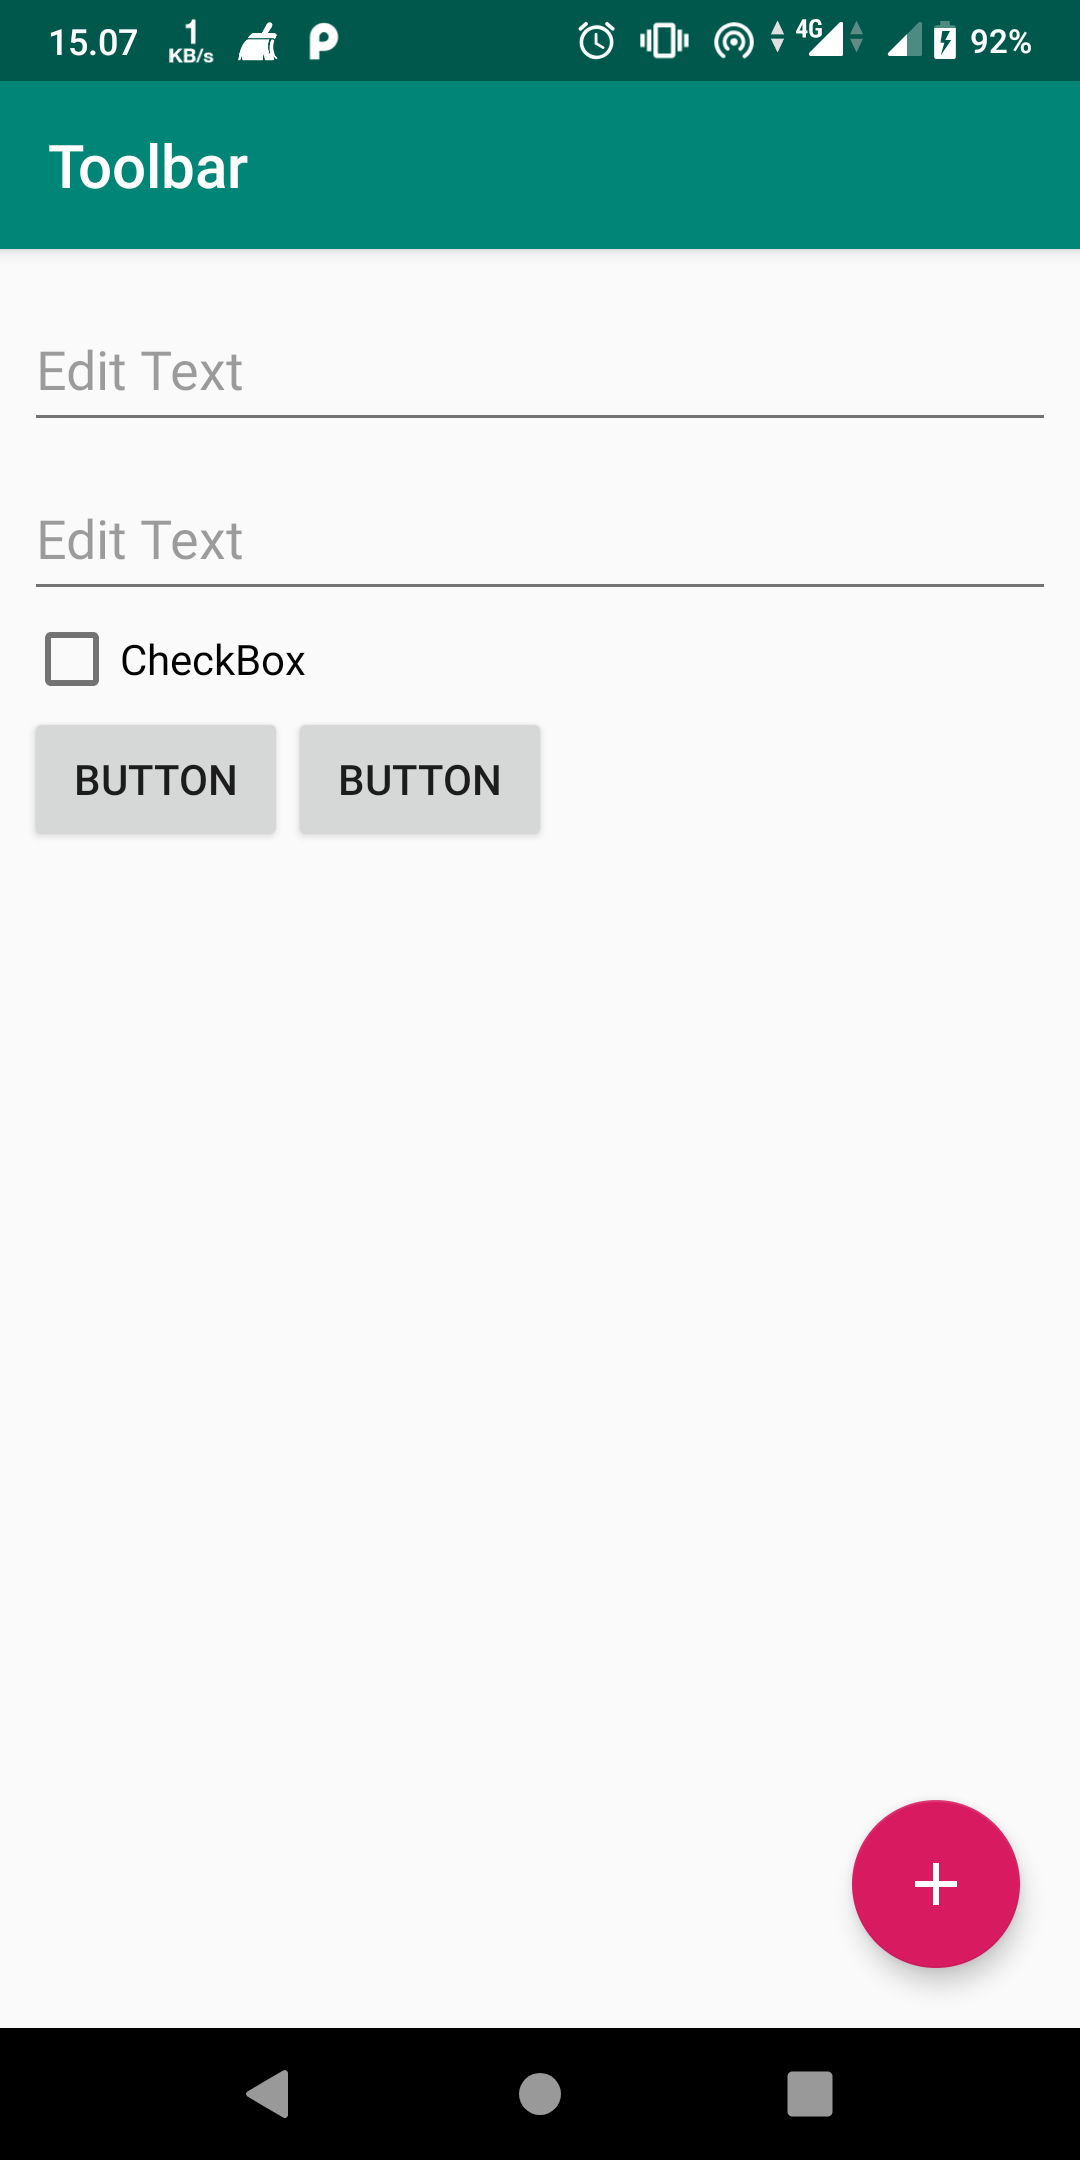button: (291, 715, 550, 851), (26, 719, 288, 842)
checkBox: (30, 619, 304, 696)
editText: (21, 328, 1062, 448), (23, 493, 1065, 606)
floatingButton: (843, 1789, 1033, 1977)
toolbar: (1, 77, 1080, 247)
